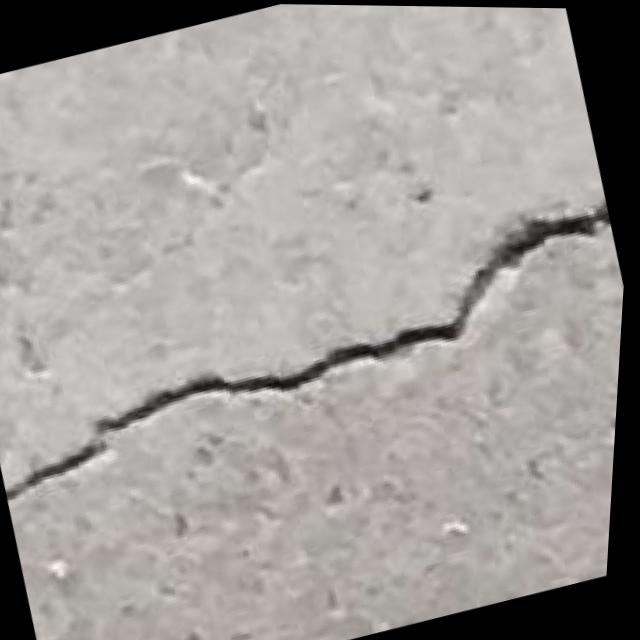Crack: (0, 177, 632, 534)
